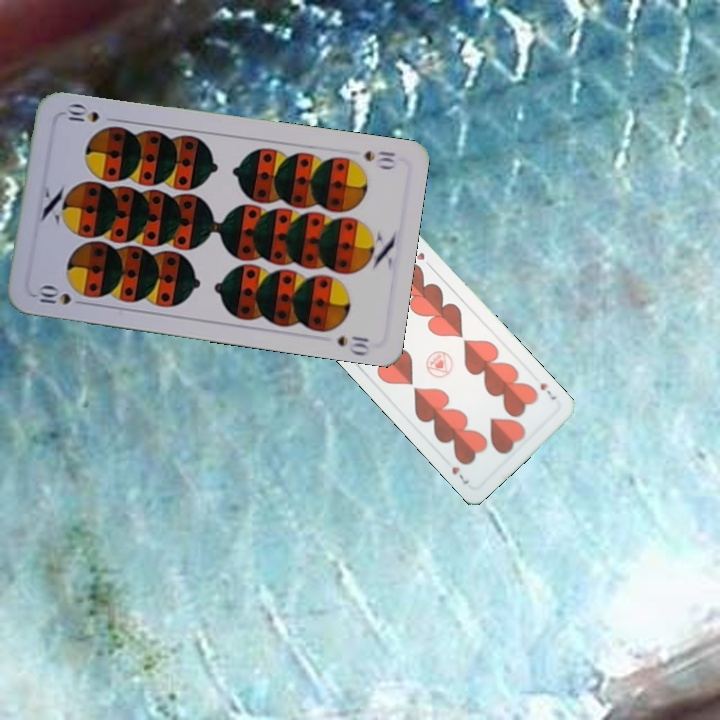H7: (536, 378, 559, 403)
S10: (35, 282, 90, 308), (360, 147, 398, 172)
